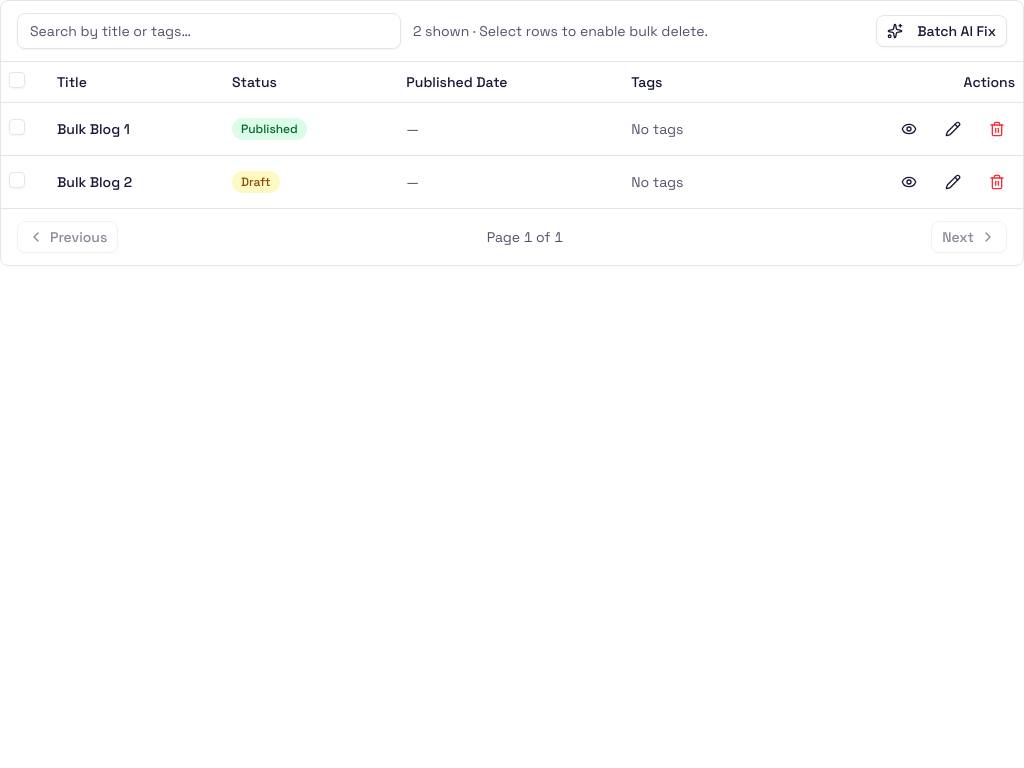
admin bulk selection tables › opens and cancels a blog bulk delete without deleting rows and preserves selection
What coordinates should you click on to do the following:
click the checkbox named "Select Bulk Blog 1"
I would click on:
 (17, 126)
Its box is [9, 118, 25, 134].
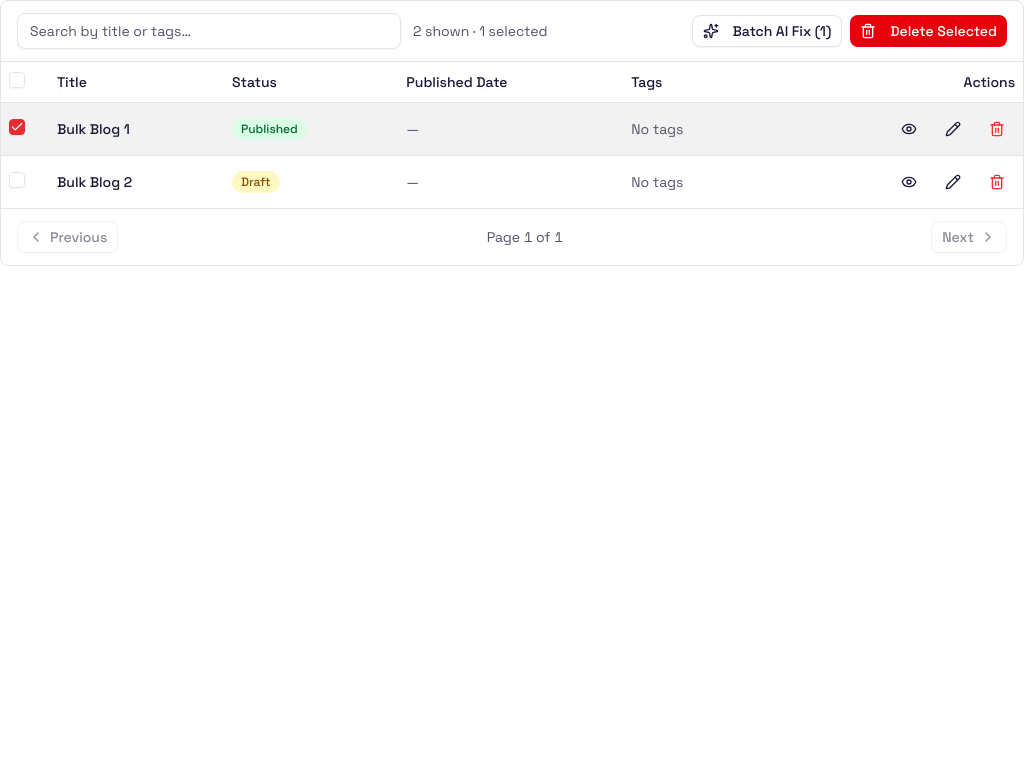
What coordinates should you click on to do the following:
click the checkbox named "Select Bulk Blog 2"
I would click on:
 (17, 180)
Its box is [9, 172, 25, 188].
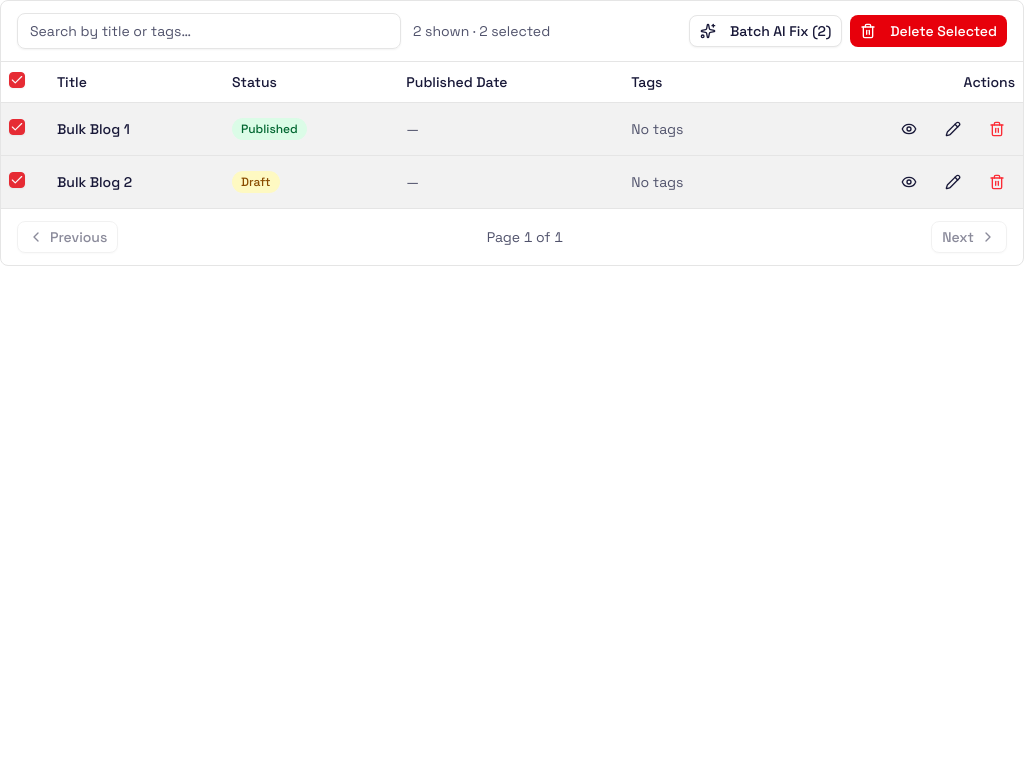
What coordinates should you click on to do the following:
click the button "Delete Selected"
I would click on:
 (929, 31)
Its box is [850, 15, 1007, 47].
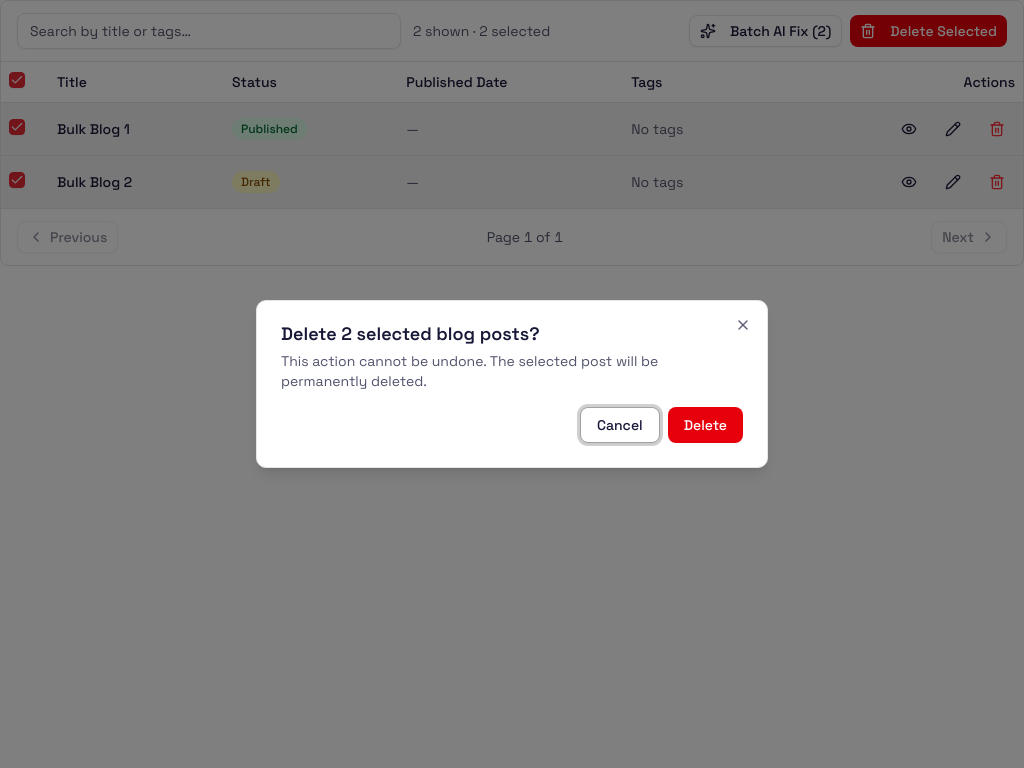
Now the dialog is shown, box [256, 300, 768, 468]
What coordinates should you click on to do the following:
click the button "Cancel"
I would click on:
 (620, 425)
Its box is [580, 407, 660, 443].
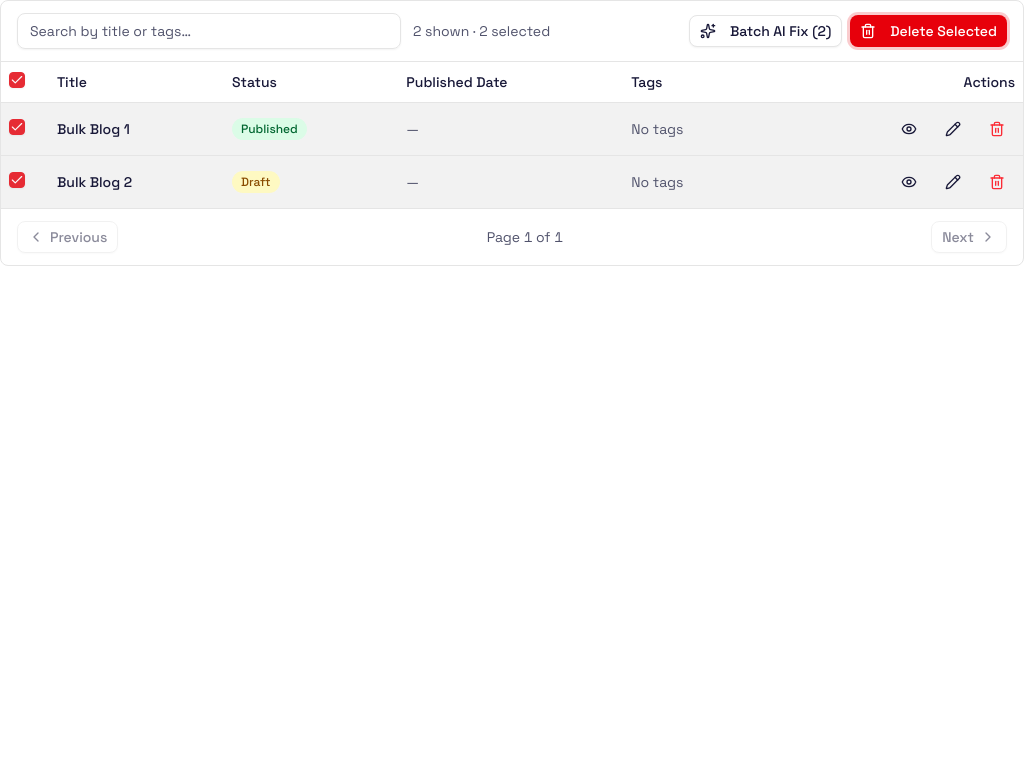
Now the checkbox named "Select Bulk Blog 1" is checked, box [9, 118, 25, 134]
Now the checkbox named "Select Bulk Blog 2" is checked, box [9, 172, 25, 188]
Now the dialog is gone
